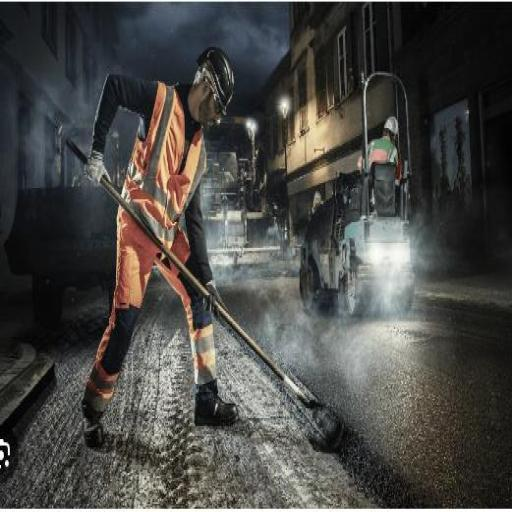safety_boots: (170, 378, 247, 434), (68, 408, 125, 462)
